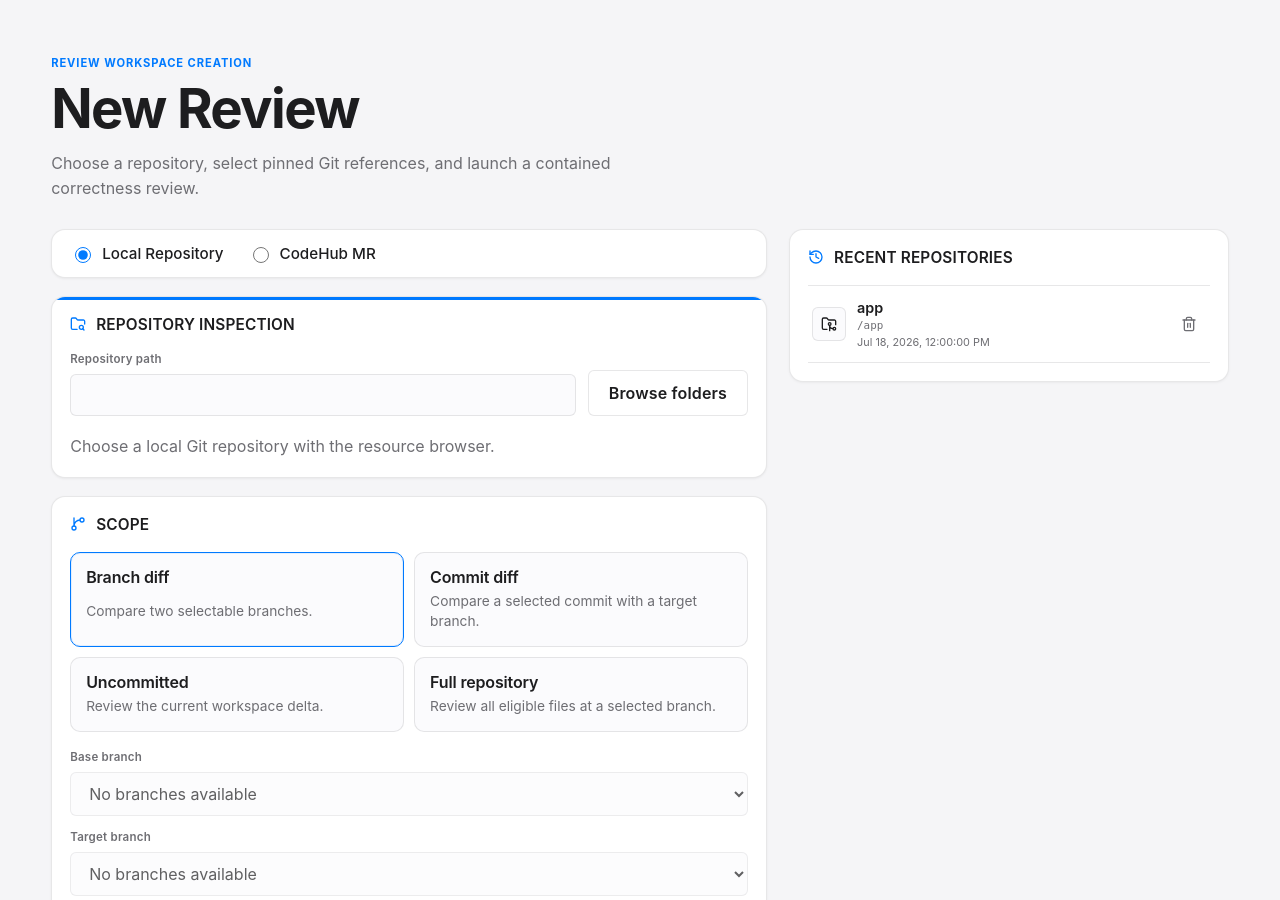
it: closes the recent repository delete dialog without deleting
Click the button named "Remove recent repository app" at coordinates (1189, 324), box 1172,307 -> 1206,341
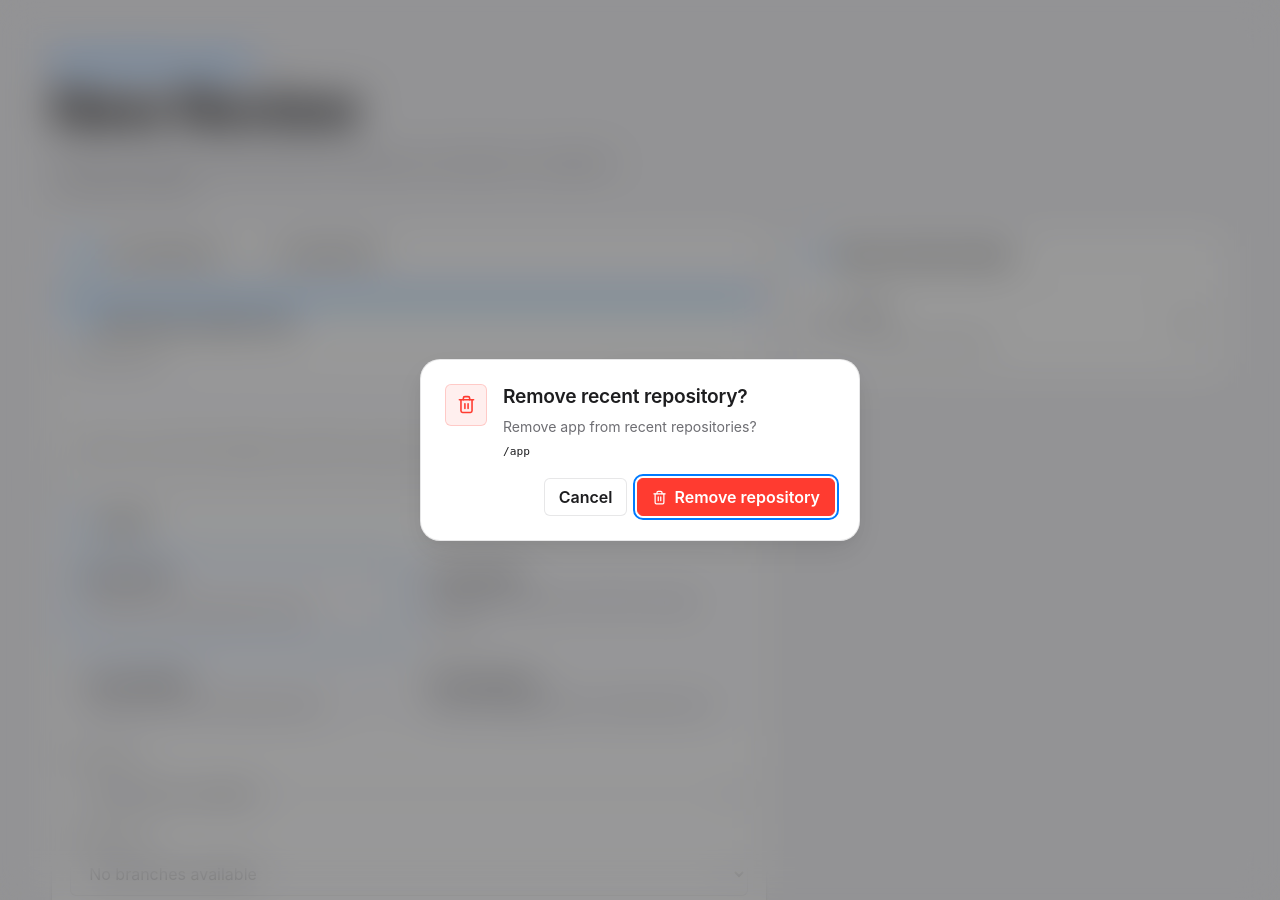
Press Escape
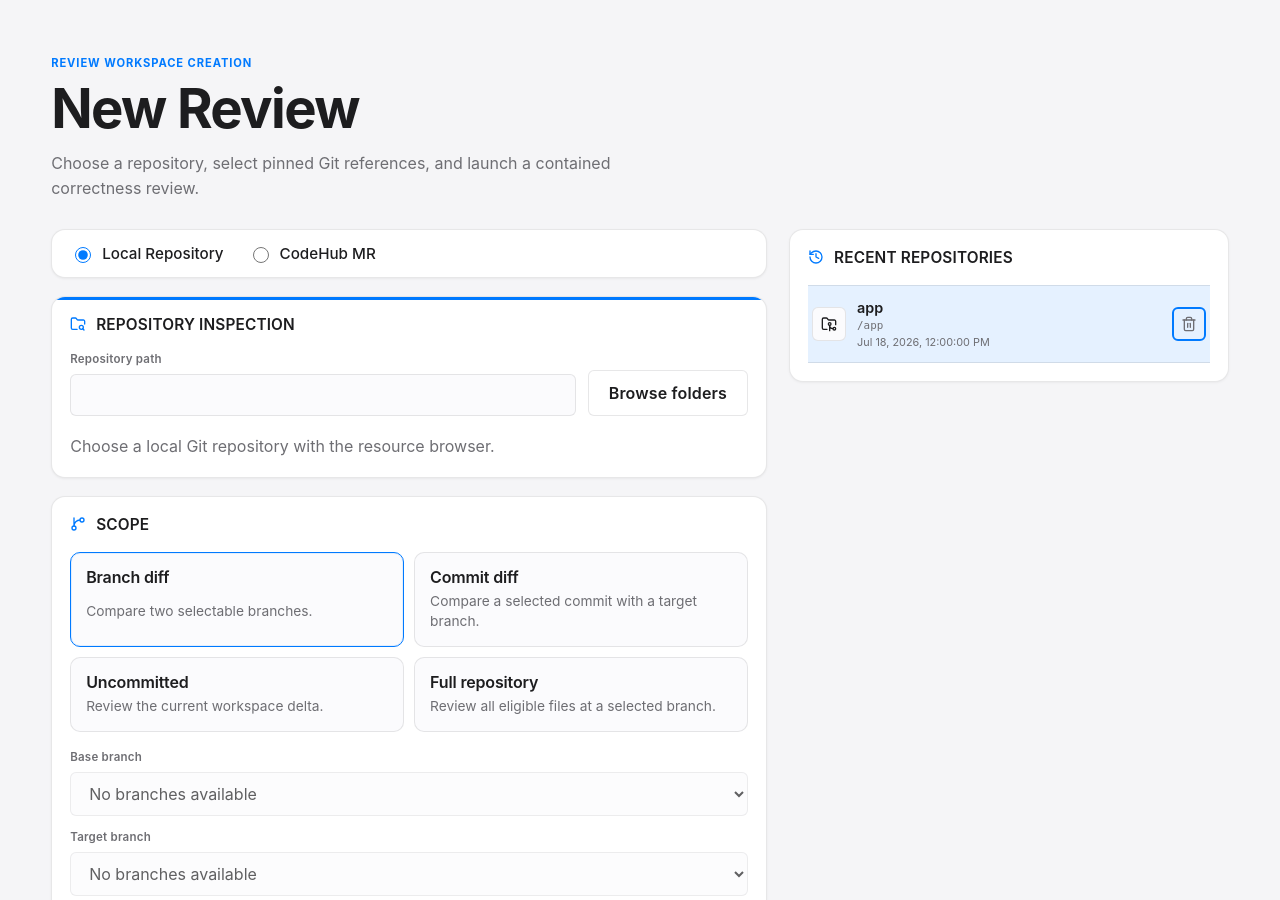
Expected: the button with aria-label "Select recent repository app" is shown, 808,286 -> 1172,362
Expected: the heading "Remove recent repository?" is gone
